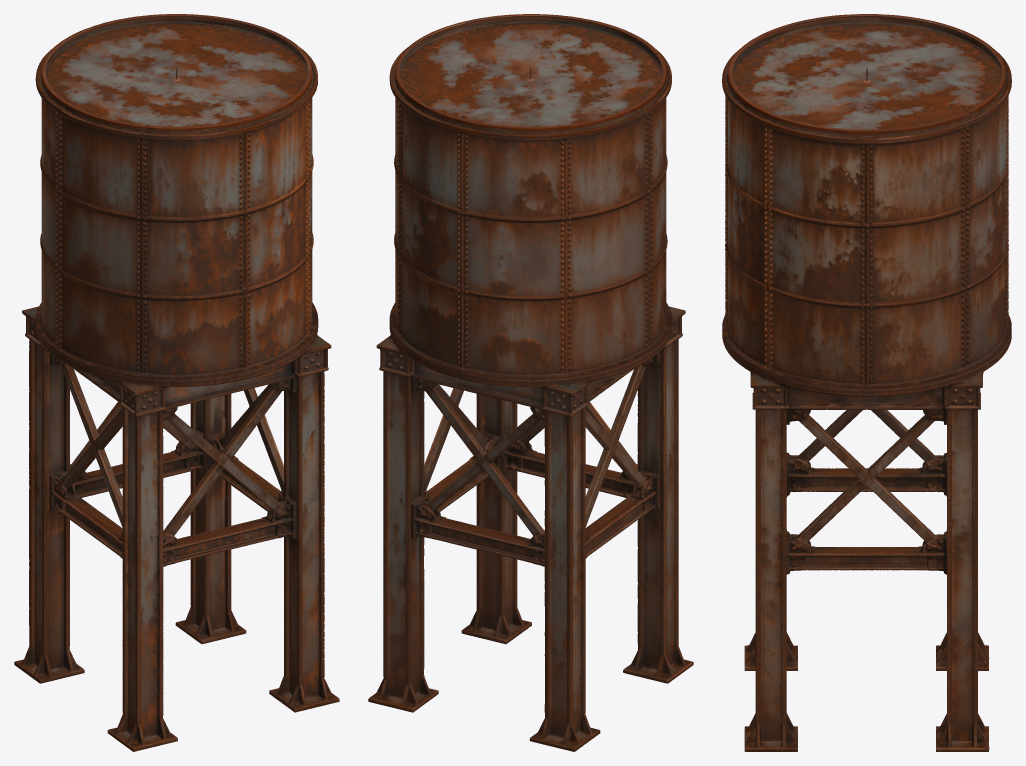
File: wt_rust.glb
3 renders of one model, left to right at view 1: azimuth 30°, elevation 25°; view 2: azimuth 150°, elevation 25°; view 3: azimuth 270°, elevation 25°, orthographic. The views are drawn at different scales.
Visible parts, largest first — view 1: wt_rust; view 2: wt_rust; view 3: wt_rust.
Part boxes in pixels (<box>): wt_rust: <box>14,14,339,751</box>; wt_rust: <box>368,14,693,751</box>; wt_rust: <box>722,14,1011,751</box>.
Bounding box in the file's own units: 79.37 × 191 × 79.44.
1 material, 1 textured.
